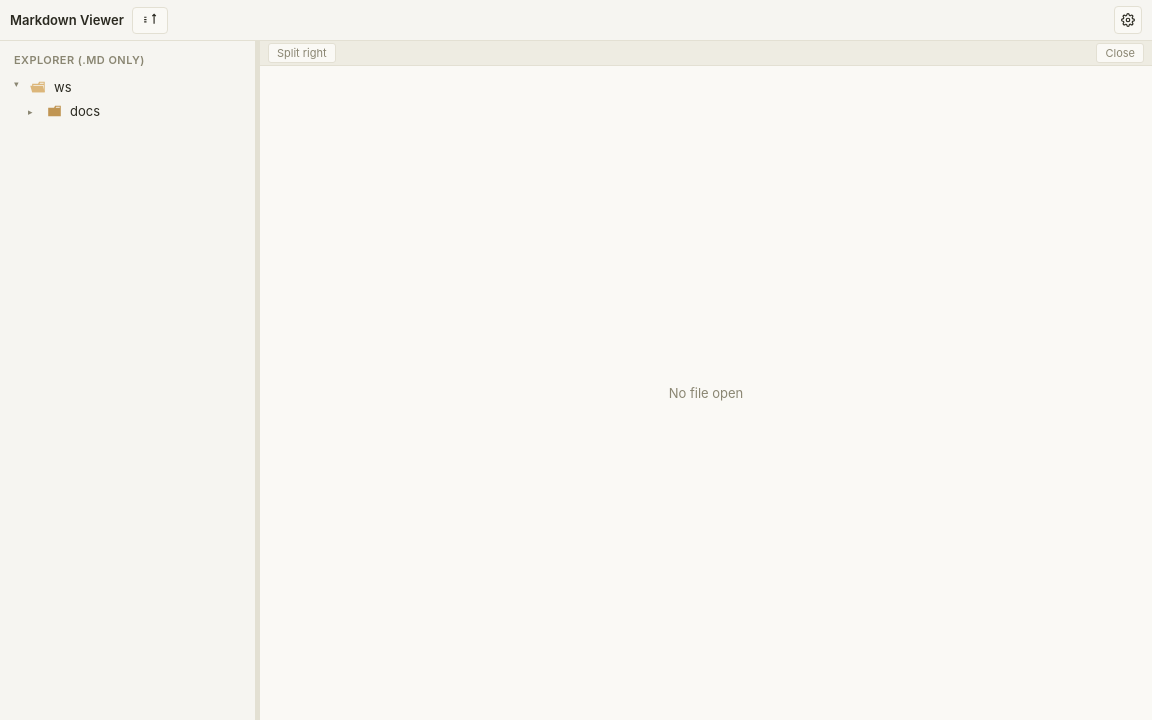
it: Sidebar fold/unfold › hides sidebar on fold click and shows it again on unfold click
The image size is (1152, 720).
expect the element with class "app-sidebar" is shown: met, box x1=0 y1=41 x2=260 y2=719
Click the button with test id "fold-button" at (150, 20), box x1=132 y1=6 x2=168 y2=34
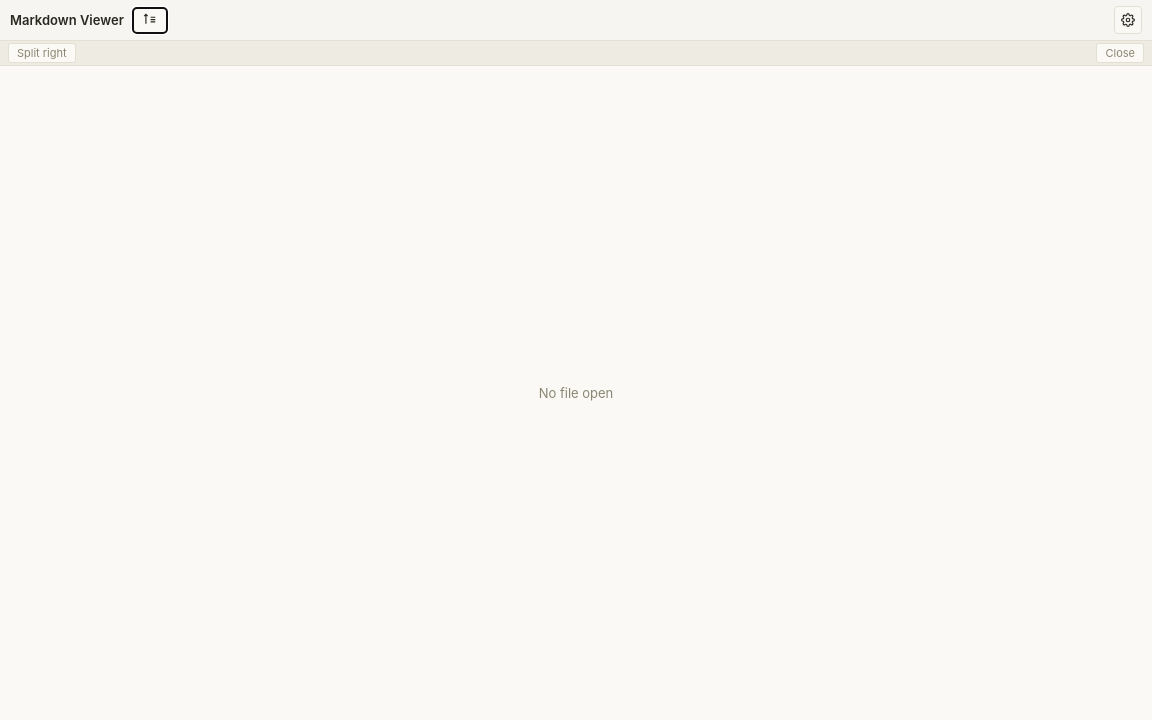
expect the element with class "app-sidebar" is gone: met
# Click unfold button again
Click the button with test id "fold-button" at (150, 20), box x1=132 y1=6 x2=168 y2=34
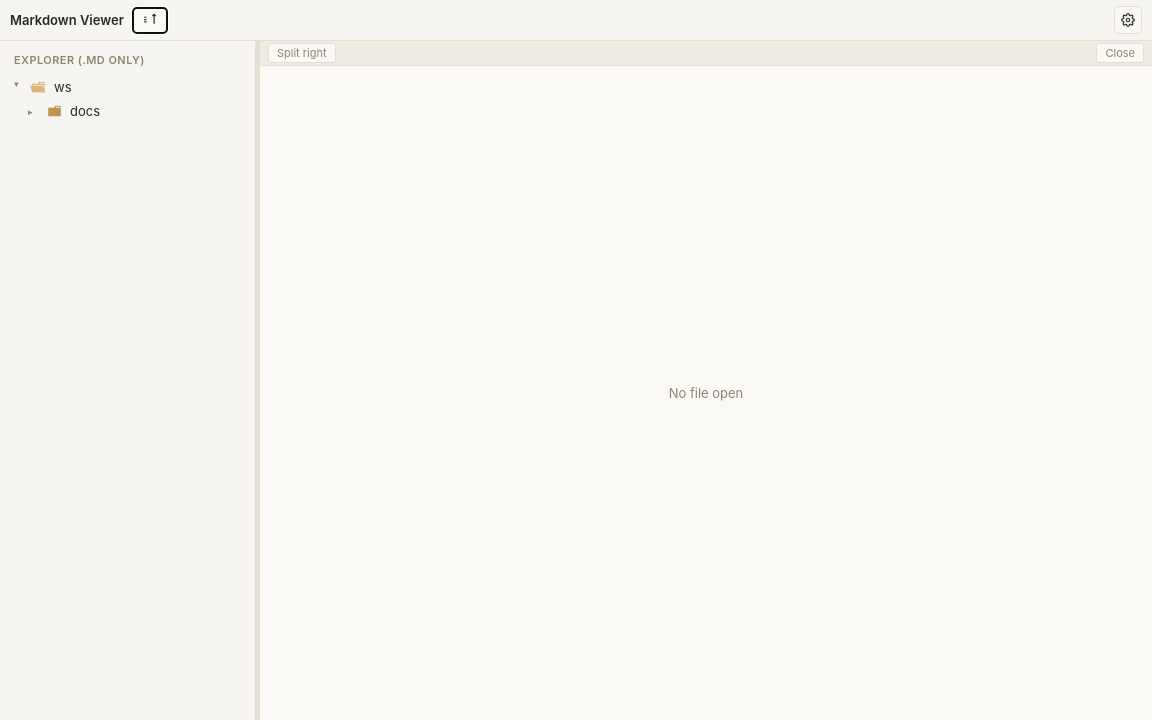
expect the element with class "app-sidebar" is shown: met, box x1=0 y1=41 x2=260 y2=719
